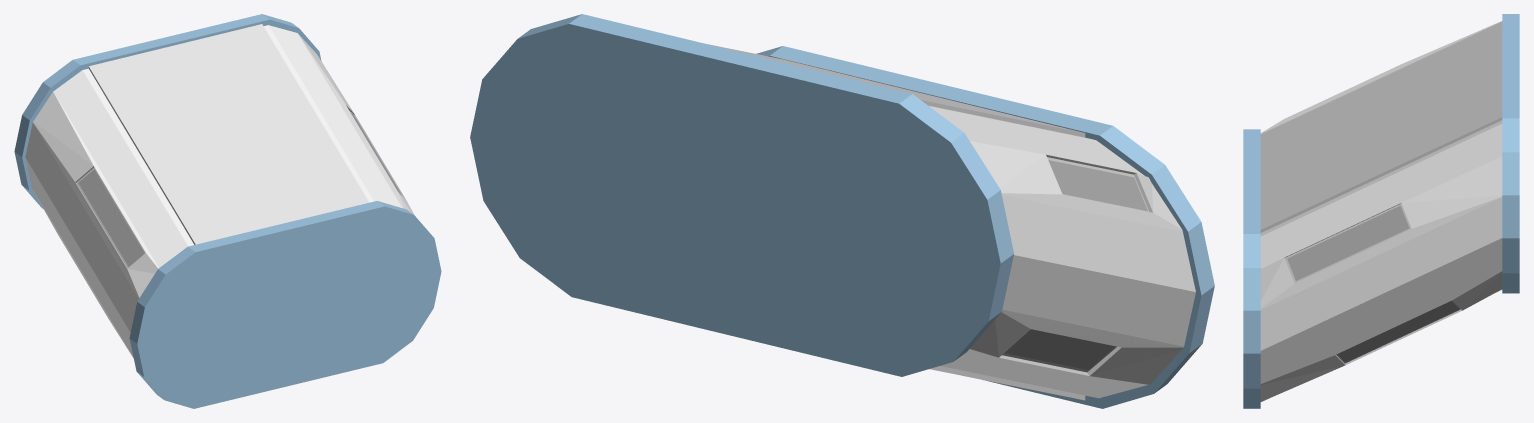
3 renders of one model, left to right at view 1: azimuth 30°, elevation 25°; view 2: azimuth 150°, elevation 25°; view 3: azimuth 270°, elevation 25°, orthographic. The views are drawn at different scales.
Parts seen in each view (by area): view 1: Cylinder_10; view 2: Cylinder_10; view 3: Cylinder_10.
Part boxes in pixels (bbox=[...]): Cylinder_10: bbox=[14, 14, 441, 408]; Cylinder_10: bbox=[470, 14, 1214, 408]; Cylinder_10: bbox=[1243, 14, 1519, 408].
Bounding box in the file's own units: 601 × 490 × 420.
